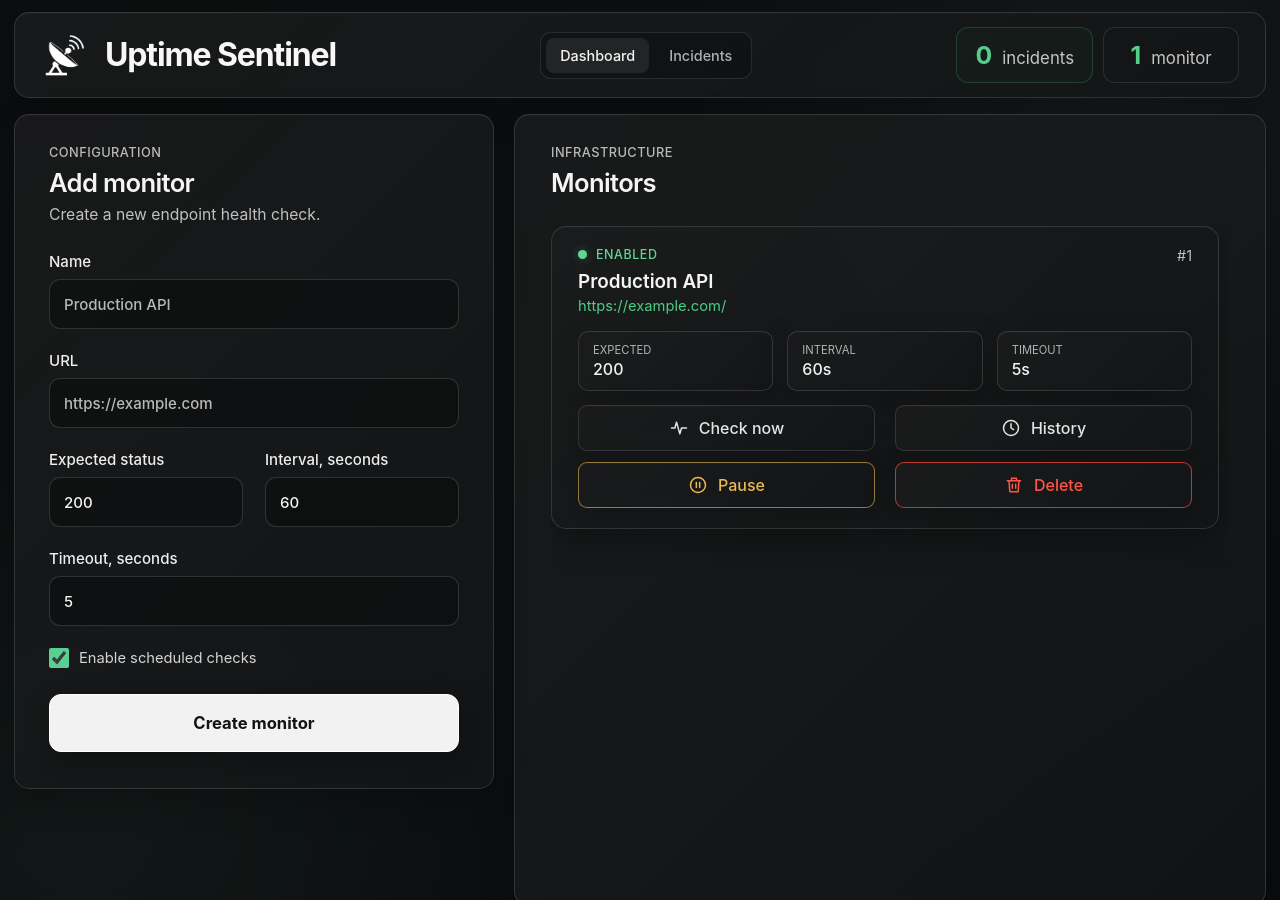
it: Uptime Sentinel dashboard › runs a check and displays its result
Click the button "Check now" at (726, 428), box [578,405,875,451]
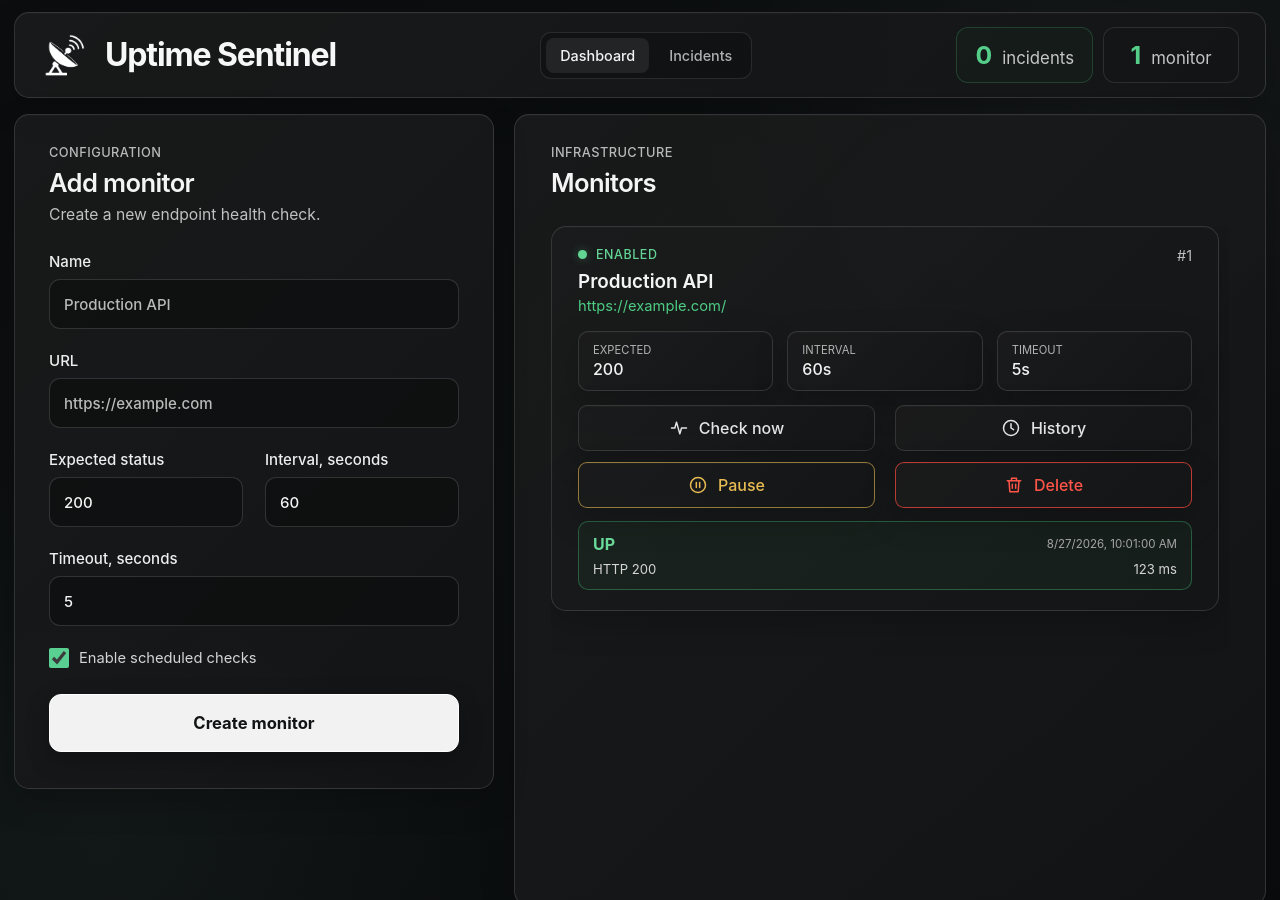
Check: the text "UP" is shown, box [593,534,615,554]
Check: the text "HTTP 200" is shown, box [593,561,656,577]
Check: the text "123 ms" is shown, box [1134,561,1177,577]
